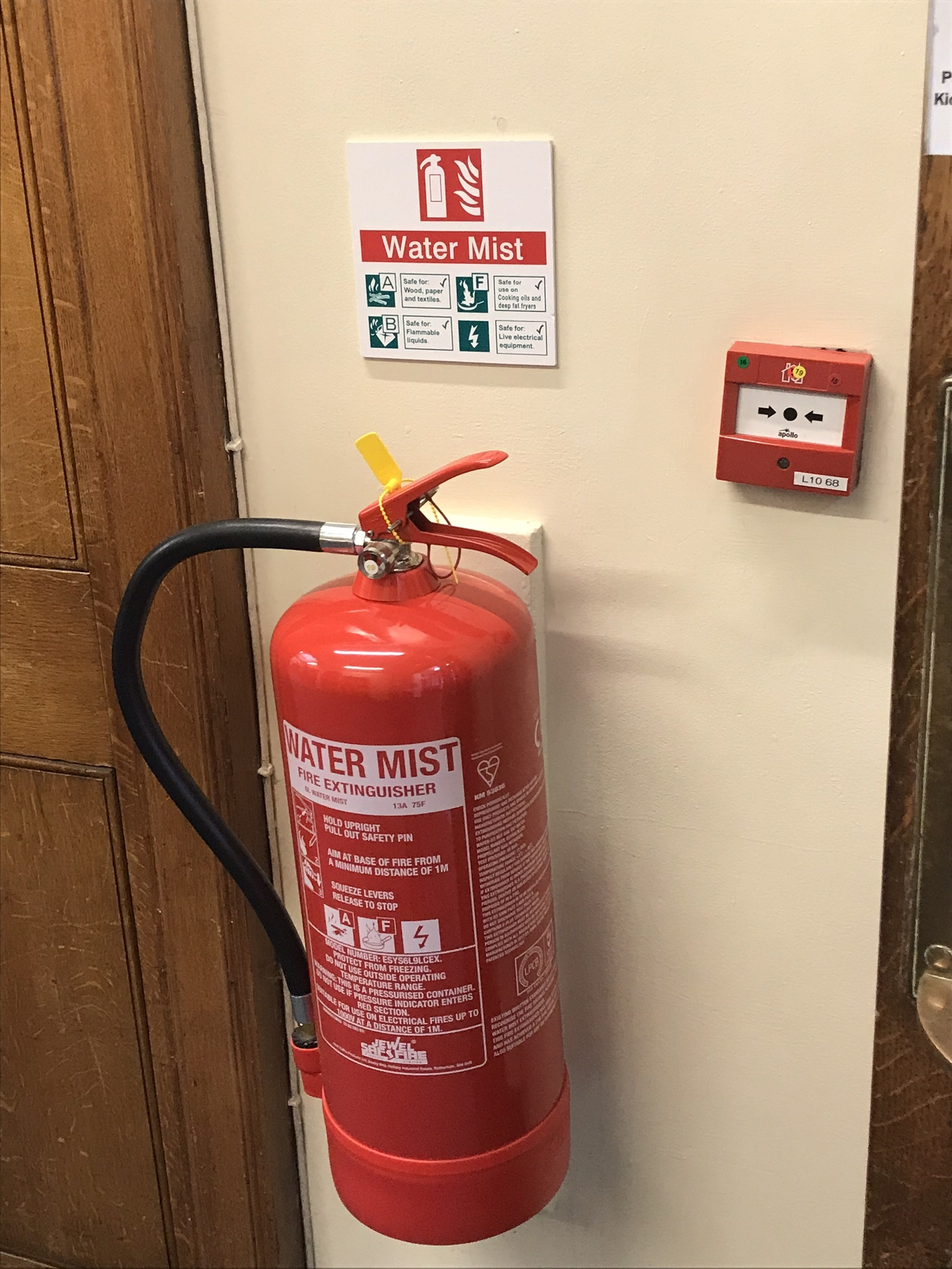fire_extinguisher: (111, 432, 573, 1248)
